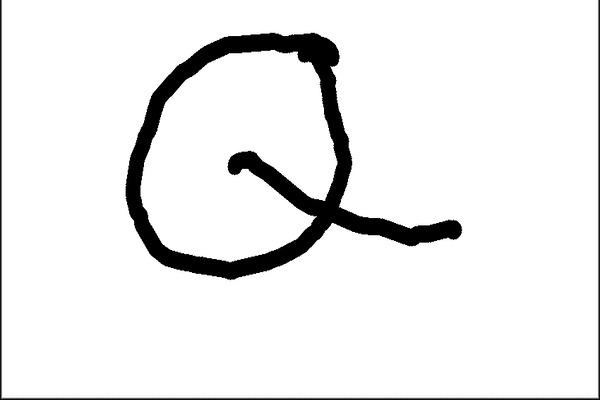Q: (116, 20, 462, 286)
